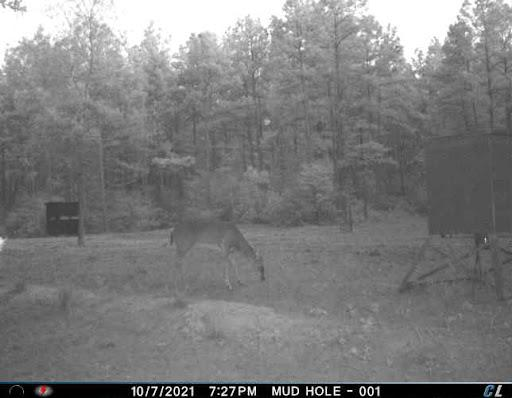Deer: (162, 211, 277, 304)
